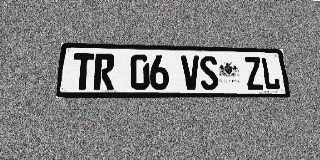0: (130, 54, 149, 90)
6: (150, 55, 169, 90)
L: (260, 57, 281, 90)
R: (93, 53, 115, 90)
S: (199, 56, 219, 90)
T: (71, 53, 94, 90)
V: (181, 55, 201, 90)
Z: (244, 57, 264, 90)
